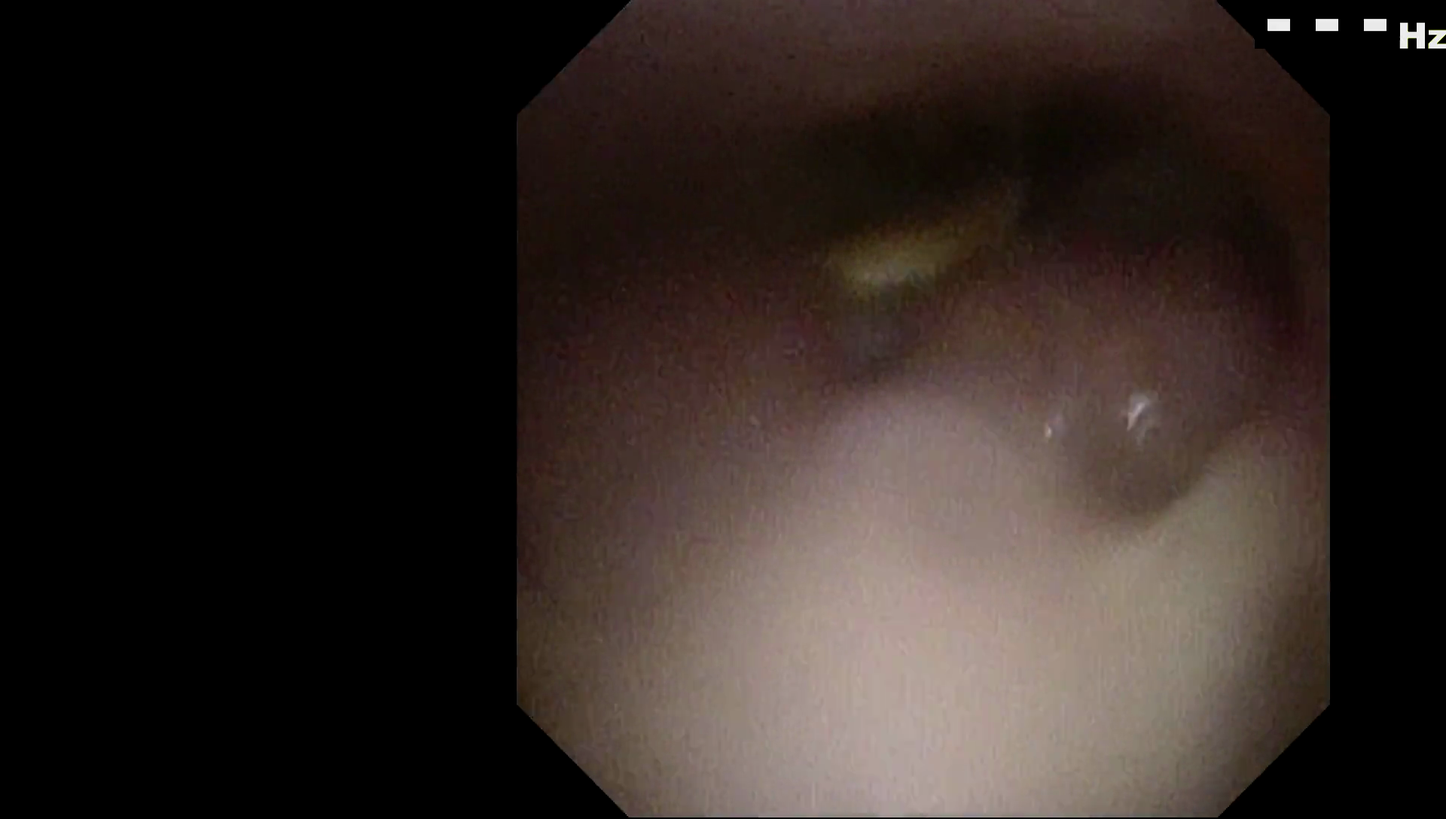next: (848, 66, 1162, 226), (1129, 157, 1321, 355)
